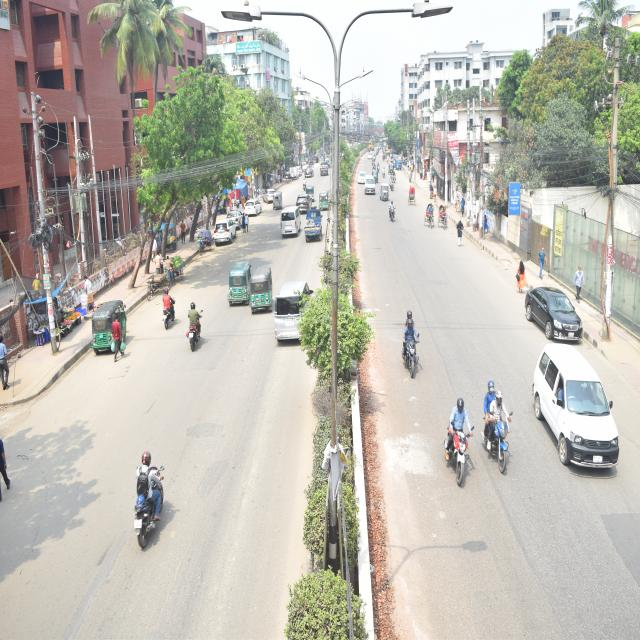car: (532, 337, 616, 501), (518, 269, 587, 357), (270, 278, 314, 358), (226, 193, 245, 235), (213, 215, 236, 248), (240, 193, 262, 223), (296, 190, 311, 217), (360, 174, 377, 197), (262, 181, 275, 206), (356, 164, 366, 188), (304, 164, 313, 180)
microbus: (277, 202, 299, 242)
motorbike: (113, 437, 192, 586), (440, 372, 480, 496), (488, 367, 516, 487), (396, 300, 424, 387), (184, 297, 207, 354), (160, 279, 174, 335), (387, 196, 397, 227), (391, 175, 394, 202), (383, 166, 386, 183), (377, 159, 380, 175)
pickup-van: (304, 203, 324, 258)
truck: (318, 162, 330, 181)
